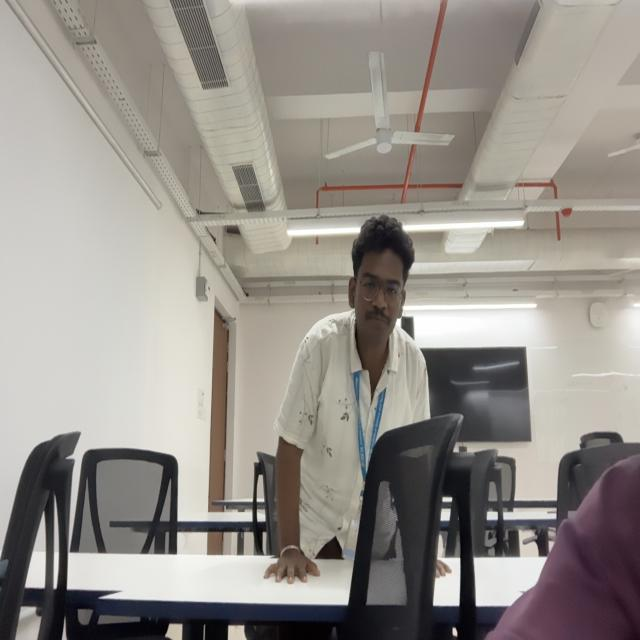sai: (348, 216, 412, 346)
